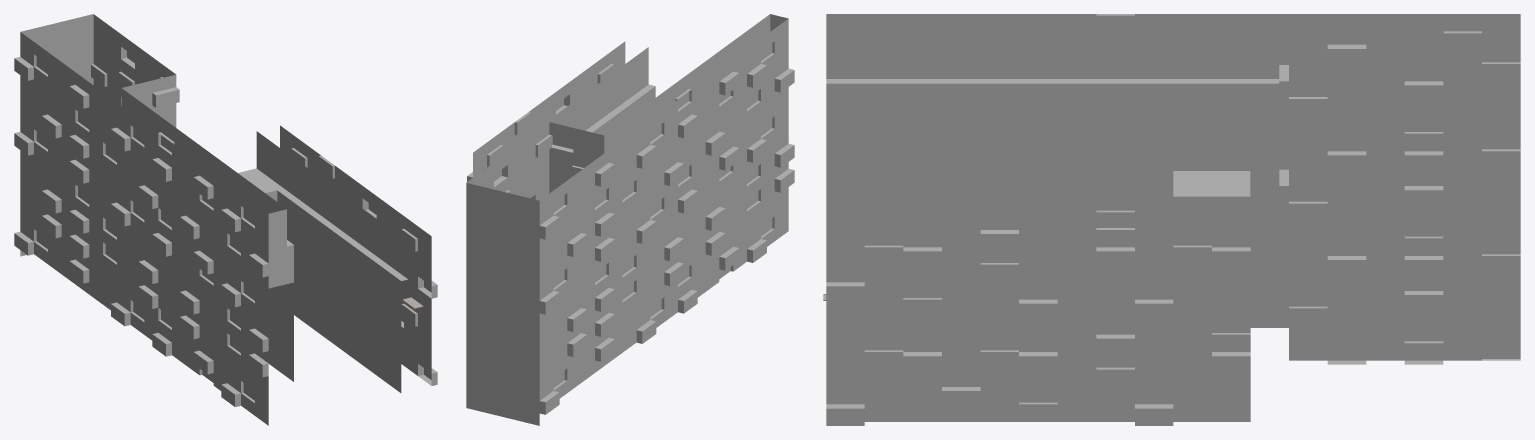
Rendered from shell_plattform.glb.
3 renders of one model, left to right at view 1: azimuth 30°, elevation 25°; view 2: azimuth 150°, elevation 25°; view 3: azimuth 270°, elevation 25°, orthographic. The views are drawn at different scales.
Visible parts, largest first — view 1: Shell; view 2: Shell; view 3: Shell.
Boxes of the visible parts, x1,y1,x2,y2 form: Shell: (14,14,437,425); Shell: (466,14,794,425); Shell: (826,14,1520,425).
Bounding box in the file's own units: 93.79 × 115 × 232.
10 materials, 8 textured.
